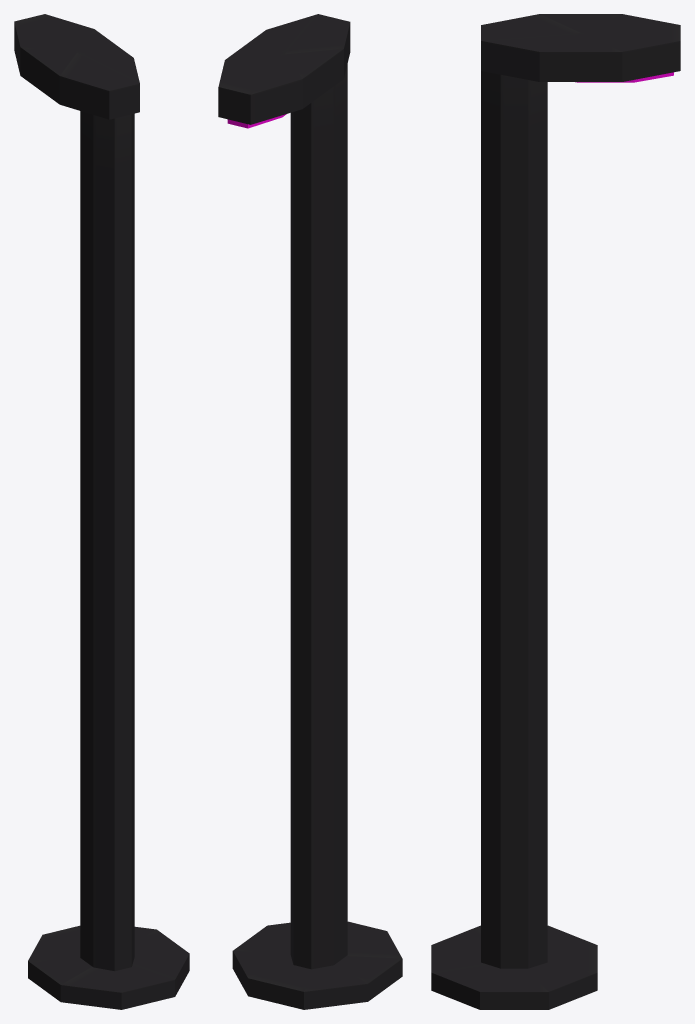
Rendered from citystreet_light.obj.
3 views of the same model, side by side, from view 1: azimuth 30°, elevation 25°; view 2: azimuth 150°, elevation 25°; view 3: azimuth 270°, elevation 25° (orthographic). The views are drawn at different scales.
Parts seen in each view (by area): view 1: cylinder; view 2: cylinder; view 3: cylinder.
Part boxes in pixels (<box>): cylinder: <box>14,14,189,1009</box>; cylinder: <box>218,14,402,1009</box>; cylinder: <box>431,14,680,1009</box>.
Size of the model in its own units: 0.5875 by 3.91 by 0.9375.
Materials: 4 (3 with a texture image).
